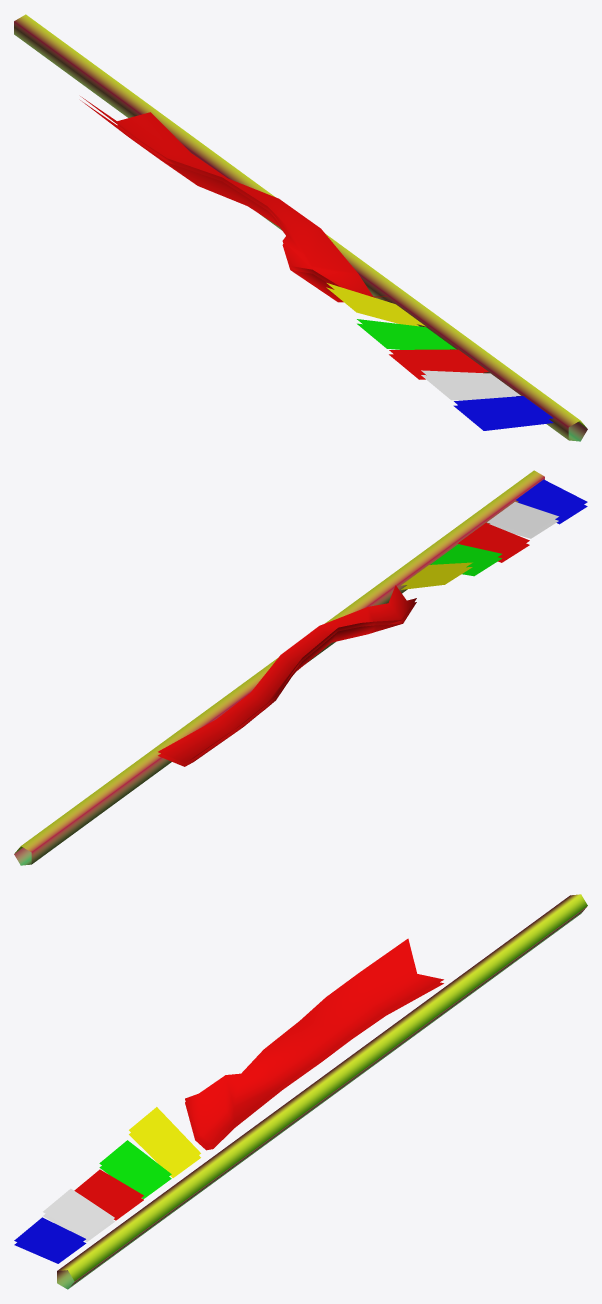
File: Flag_PrayerVertical.glb
3 views of the same model, one above another, from view 1: azimuth 30°, elevation 25°; view 2: azimuth 150°, elevation 25°; view 3: azimuth 330°, elevation 25° (orthographic). The views are drawn at different scales.
Parts seen in each view (by area): view 1: MeshNode_0, MeshNode_1; view 2: MeshNode_0, MeshNode_1; view 3: MeshNode_0, MeshNode_1.
Boxes of the visible parts, bbox=[...] form: MeshNode_0: bbox=[80, 96, 553, 430]; MeshNode_1: bbox=[14, 14, 587, 441]; MeshNode_0: bbox=[158, 479, 587, 766]; MeshNode_1: bbox=[14, 470, 544, 865]; MeshNode_0: bbox=[14, 938, 443, 1263]; MeshNode_1: bbox=[57, 894, 587, 1289].
Bounding box in the file's own units: 2.55 × 1.55 × 28.06.
